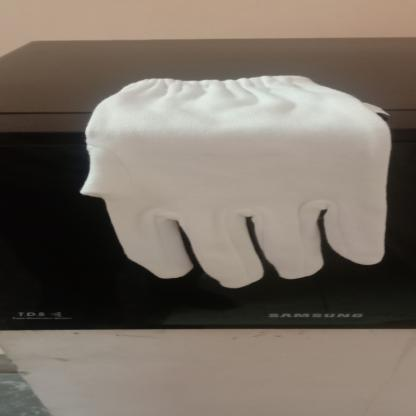gloved_hand: (70, 70, 392, 290)
